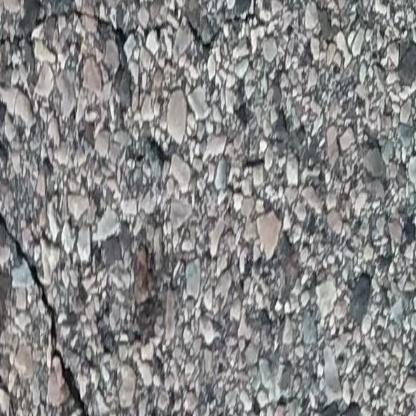Cracks: (0, 152, 102, 416), (0, 0, 286, 93)
